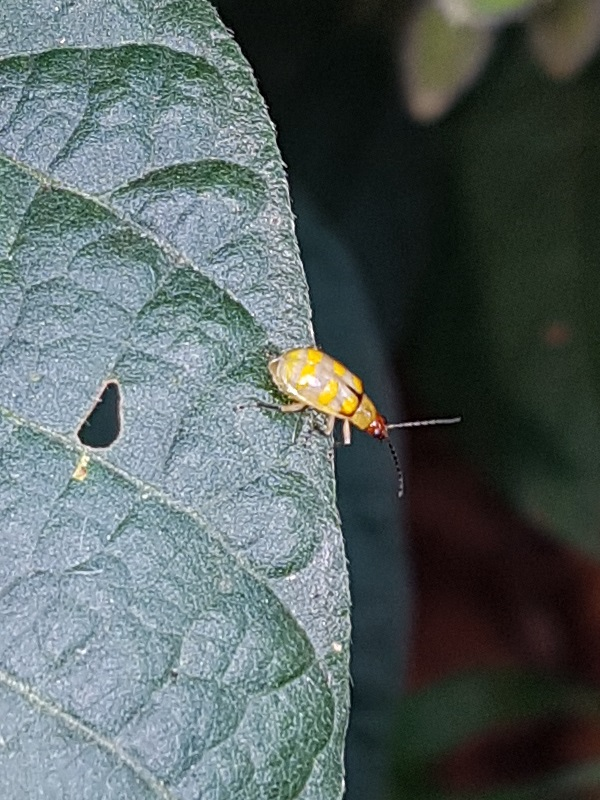Diabrotica_speciosa: (239, 326, 464, 501)
